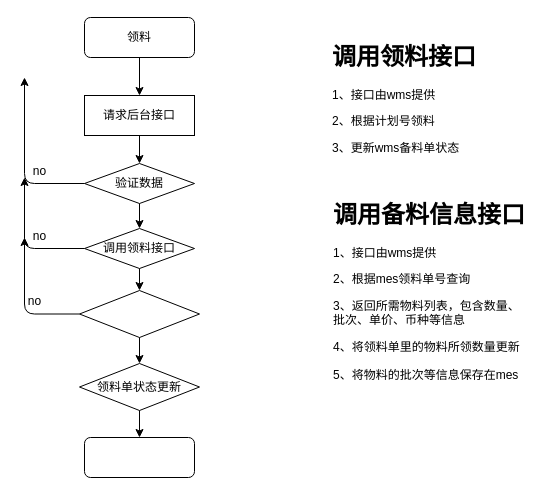
Some shapes in this 549 by 495 pixel diagram are drawn without their labels. Each missing label, with the centre of its shape:
"结束" belongs at [139,457].
"调用备料单信息接口" belongs at [139,314].
